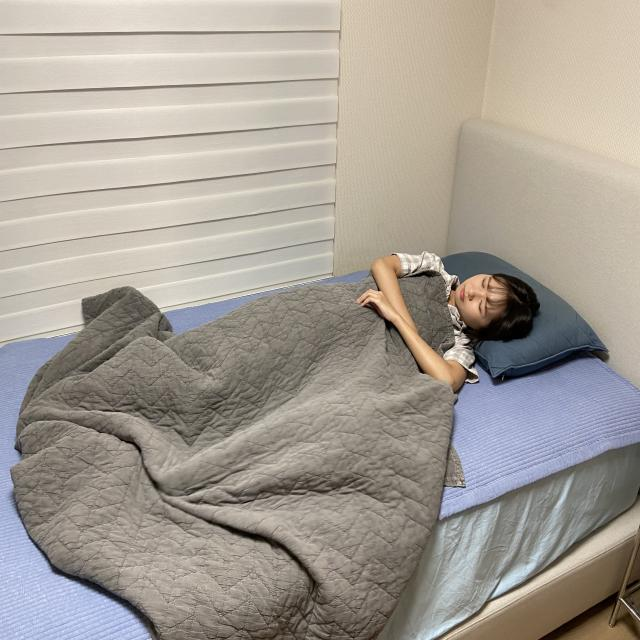people: (36, 245, 544, 552)
